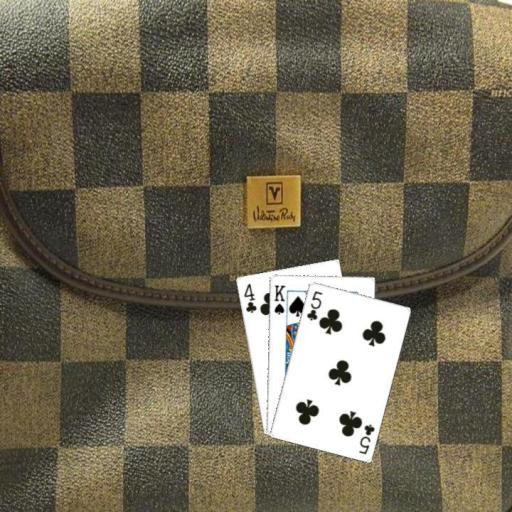4C: (240, 280, 258, 314)
5C: (356, 420, 376, 455), (304, 288, 324, 322)
KS: (271, 282, 286, 316)
